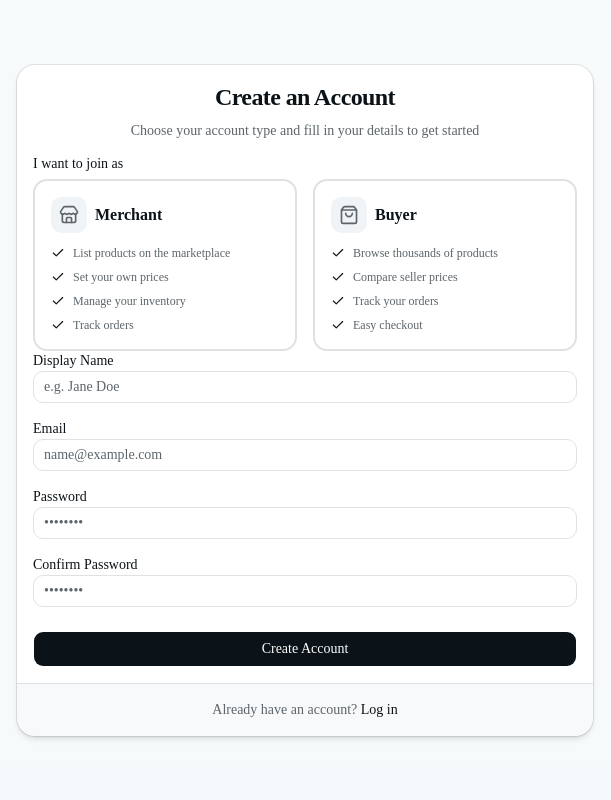
Scenario: SignupPage Component › displays validation errors when submitting empty form
What coordinates should you click on to do the following:
click the button "Create Account"
I would click on:
 (305, 648)
Its box is [33,630,577,666].
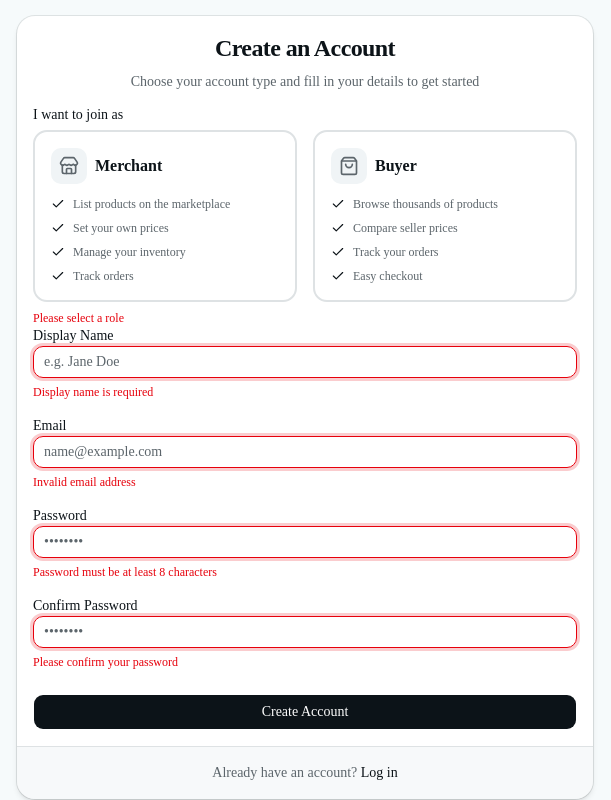
Check: the text "Please select a role" is shown, box [33,311,124,325]
Check: the text "Display name is required" is shown, box [33,385,153,399]
Check: the text "Invalid email address" is shown, box [33,475,136,489]
